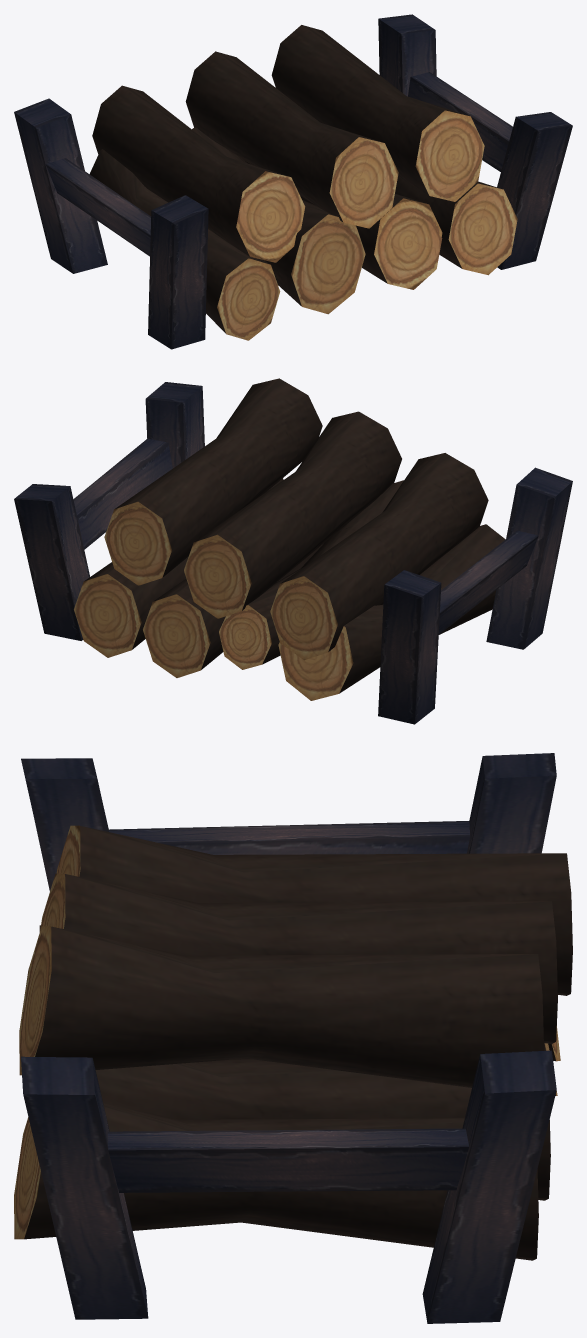
Rendered from Wood_Log_Stack.fbx.
The picture shows the model from 3 angles, top to bottom: view 1: azimuth 30°, elevation 25°; view 2: azimuth 150°, elevation 25°; view 3: azimuth 270°, elevation 25°; orthographic projection. The views are drawn at different scales.
Visible parts, largest first — view 1: Wood_Log_Stack; view 2: Wood_Log_Stack; view 3: Wood_Log_Stack.
Part boxes in pixels (x1,y1,x2,y2): Wood_Log_Stack: [14, 14, 572, 349]; Wood_Log_Stack: [14, 378, 572, 724]; Wood_Log_Stack: [14, 753, 572, 1323].
Bounding box in the file's own units: 66.53 × 28.24 × 46.04.
Materials: 1 (1 with a texture image).
